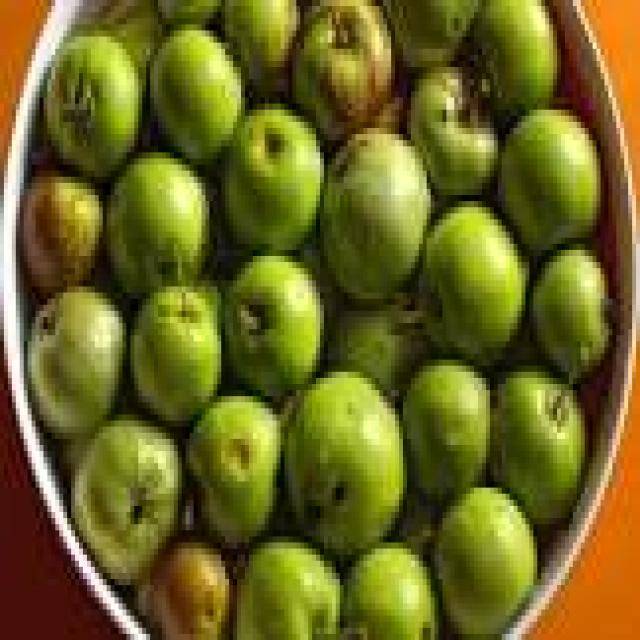apple: (285, 372, 406, 560), (320, 128, 430, 304), (72, 415, 181, 585), (423, 202, 529, 365), (435, 488, 537, 639), (28, 287, 126, 438), (44, 31, 142, 182), (107, 153, 209, 298), (498, 110, 600, 255), (222, 104, 323, 249), (490, 372, 584, 524), (293, 0, 395, 140), (186, 397, 280, 548), (226, 256, 323, 402), (151, 25, 244, 164), (131, 287, 221, 426), (407, 68, 497, 201), (403, 360, 489, 499), (530, 250, 612, 383), (471, 0, 560, 121), (20, 171, 102, 298), (234, 543, 339, 639), (328, 299, 426, 396), (344, 543, 438, 639), (147, 543, 233, 639), (222, 0, 300, 97), (384, 0, 481, 67), (83, 0, 162, 73), (159, 0, 221, 24)
